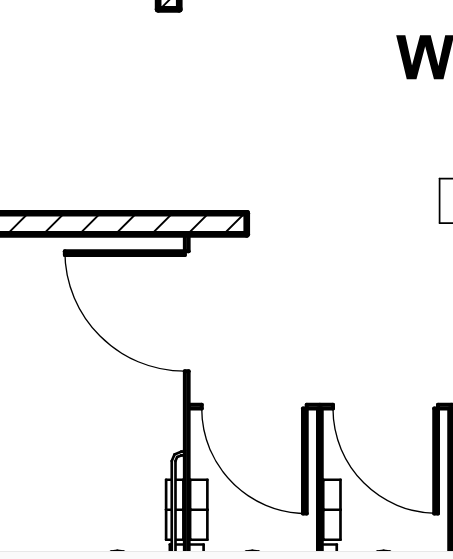door: (55, 247, 196, 378), (196, 397, 316, 518), (329, 396, 443, 520)
